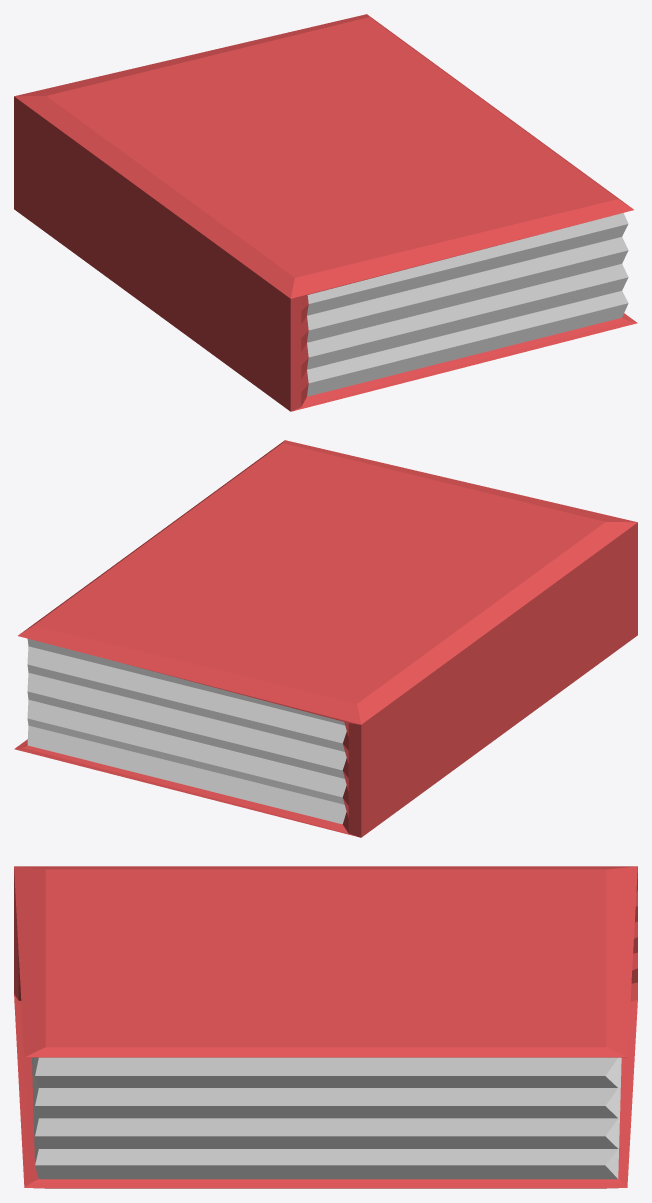
File: book3.fbx
The picture shows the model from 3 angles, top to bottom: view 1: azimuth 30°, elevation 25°; view 2: azimuth 150°, elevation 25°; view 3: azimuth 270°, elevation 25°; orthographic projection. The views are drawn at different scales.
Visible parts, largest first — view 1: Cube; view 2: Cube; view 3: Cube.
Part boxes in pixels (<box>): Cube: <box>14,14,637,411</box>; Cube: <box>14,440,637,837</box>; Cube: <box>14,866,637,1188</box>.
Bounding box in the file's own units: 14.91 × 5.08 × 20.33.
